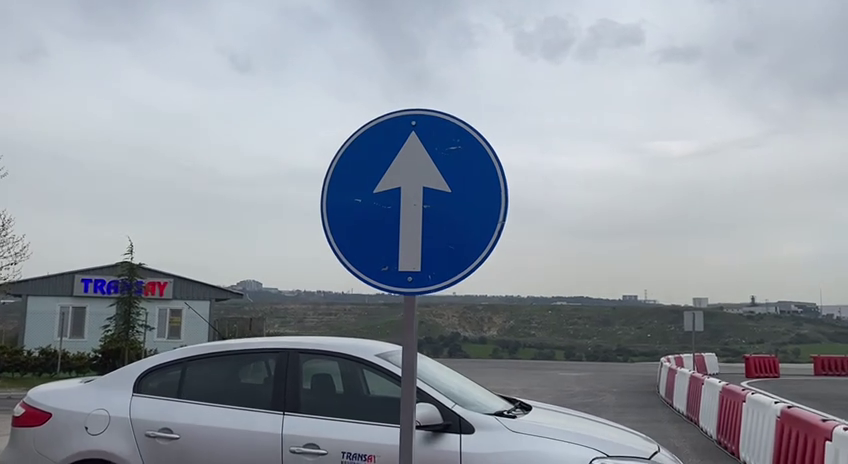forward: (318, 103, 513, 297)
